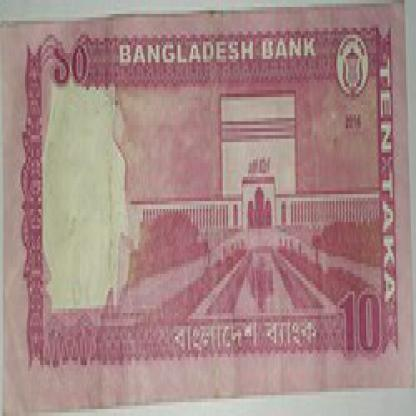Ten Taka: (338, 284, 388, 357), (48, 28, 95, 97)
